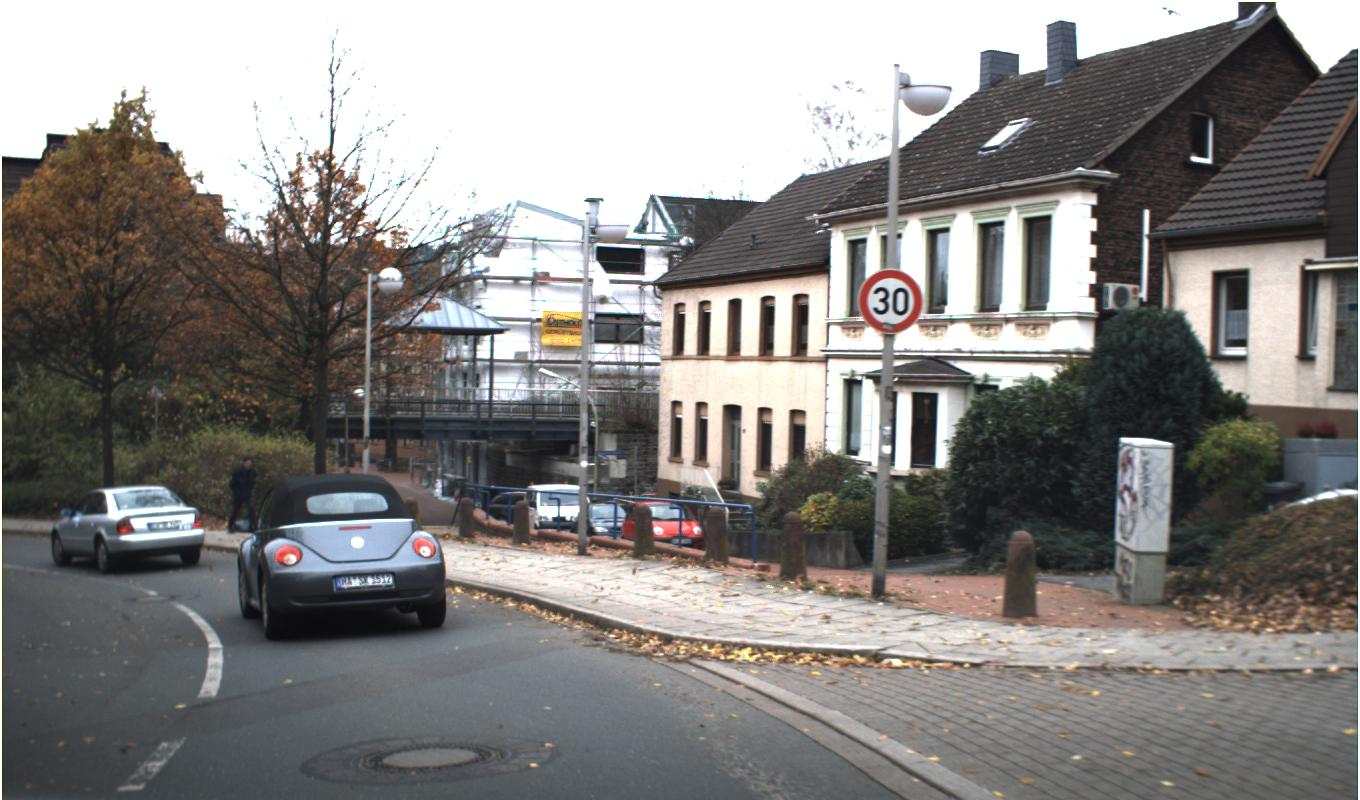prohibitory: (856, 268, 924, 334)
